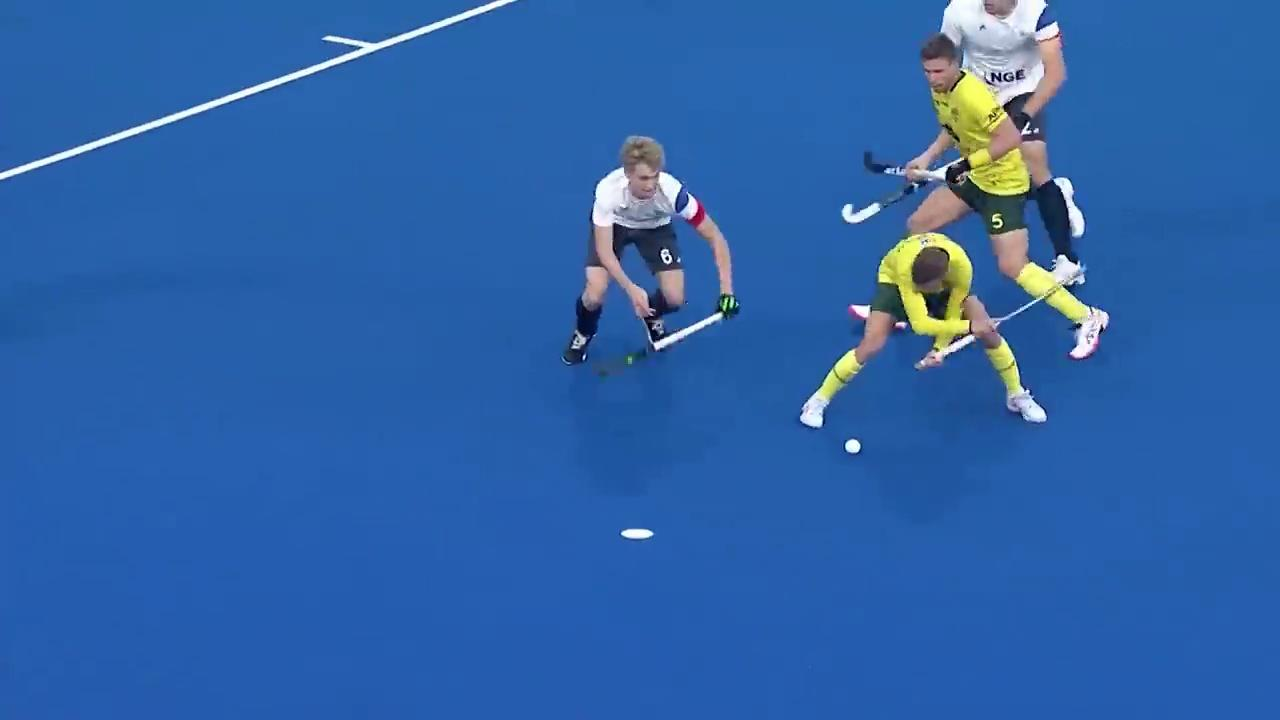ball: (837, 430, 867, 462)
